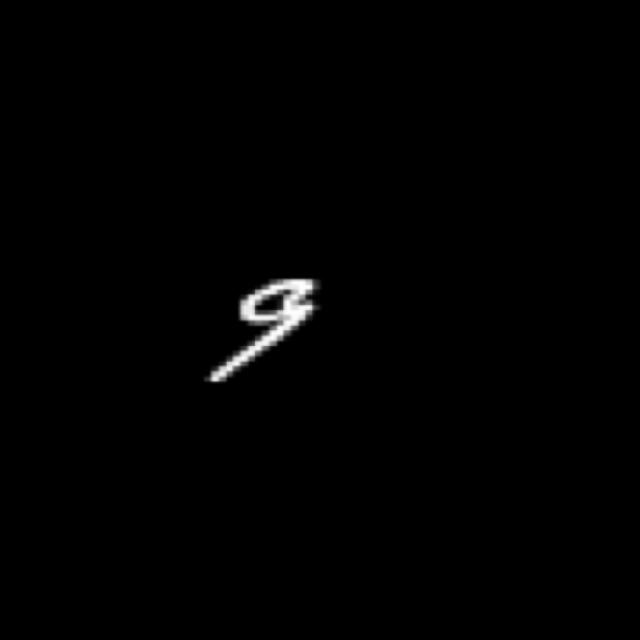nine -9-: (200, 272, 318, 389)
